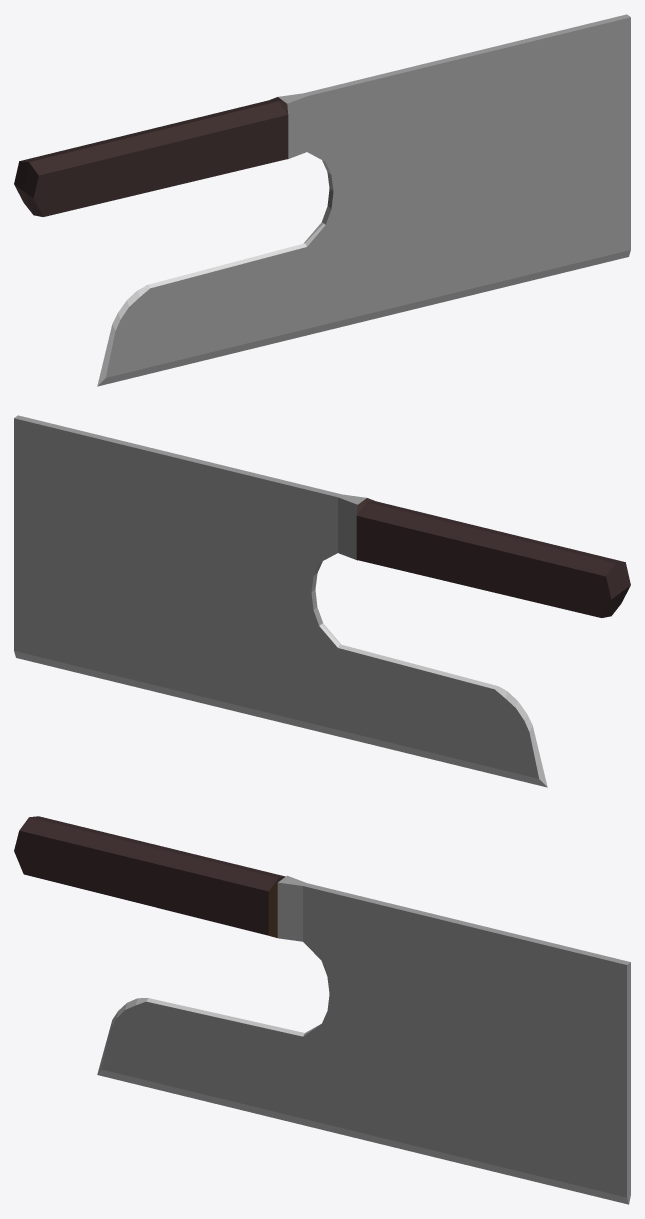
Rendered from Soba Cleaver.fbx.
3 renders of one model, top to bottom at view 1: azimuth 30°, elevation 25°; view 2: azimuth 150°, elevation 25°; view 3: azimuth 330°, elevation 25°, orthographic.
Visible parts, largest first — view 1: Sobakiri; view 2: Sobakiri; view 3: Sobakiri.
Boxes of the visible parts, <box> form: Sobakiri: <box>14,14,630,386</box>; Sobakiri: <box>14,415,630,787</box>; Sobakiri: <box>14,816,630,1204</box>.
Size of the model in its own units: 52.85 by 20.12 by 2.97.
